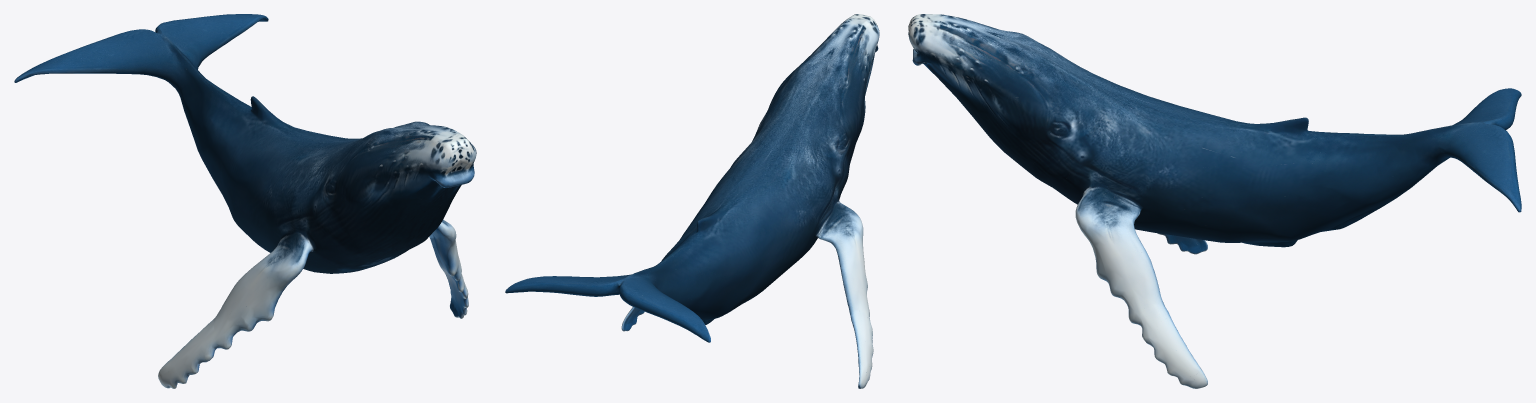
File: fishing_king_whale.glb
3 renders of one model, left to right at view 1: azimuth 30°, elevation 25°; view 2: azimuth 150°, elevation 25°; view 3: azimuth 270°, elevation 25°, orthographic. The views are drawn at different scales.
Parts seen in each view (by area): view 1: Mesh_0; view 2: Mesh_0; view 3: Mesh_0.
Boxes of the visible parts, box(x1,y1,x2,y2) form: Mesh_0: box(14, 14, 476, 388); Mesh_0: box(505, 14, 879, 388); Mesh_0: box(908, 14, 1521, 388).
Bounding box in the file's own units: 1.01 × 1.04 × 1.9.
Materials: 1 (1 with a texture image).
